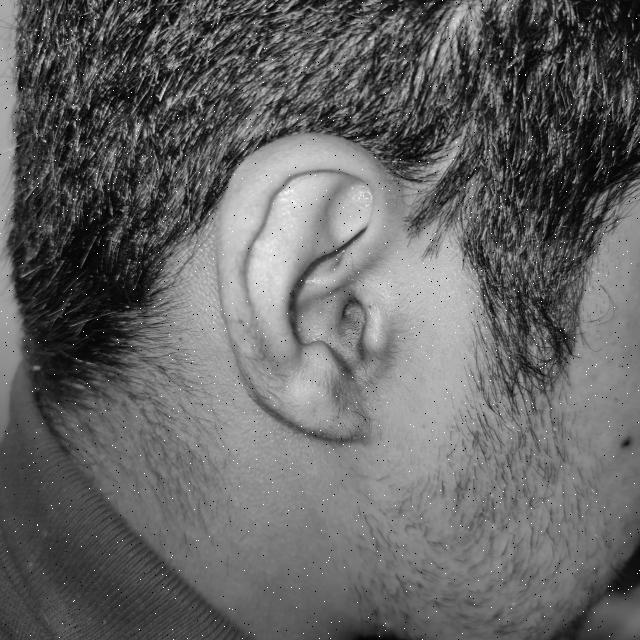ear: (216, 134, 394, 440), (396, 218, 401, 219)
